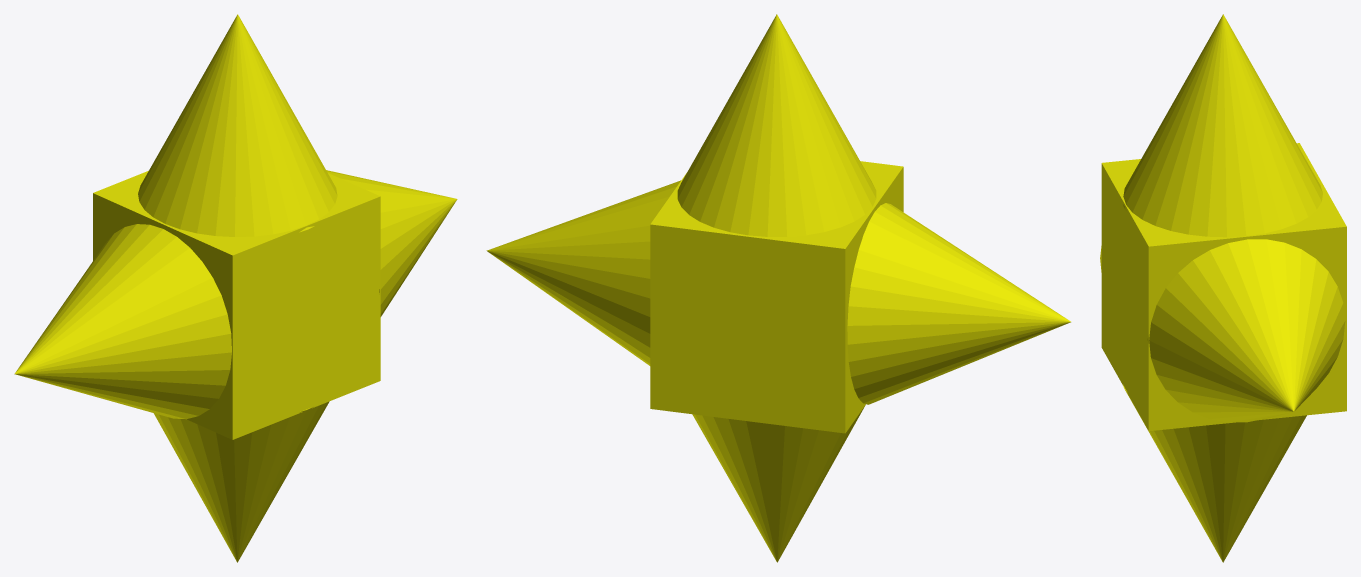
File: estrellita.glb
3 views of the same model, side by side, from view 1: azimuth 30°, elevation 25°; view 2: azimuth 150°, elevation 25°; view 3: azimuth 270°, elevation 25° (orthographic).
Parts seen in each view (by area): view 1: Cone.001; view 2: Cone.001; view 3: Cone.001.
Boxes of the visible parts, bbox=[...] form: Cone.001: bbox=[14, 14, 457, 562]; Cone.001: bbox=[486, 14, 1070, 562]; Cone.001: bbox=[1100, 14, 1346, 562].
Bounding box in the file's own units: 5.83 × 5.95 × 2.42.
